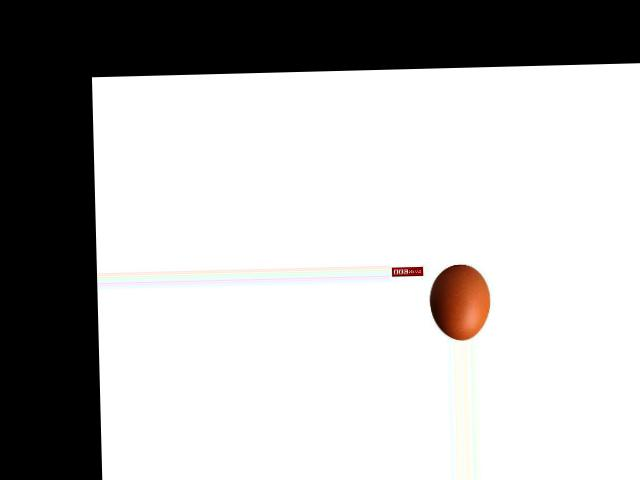egg: (429, 263, 491, 339)
